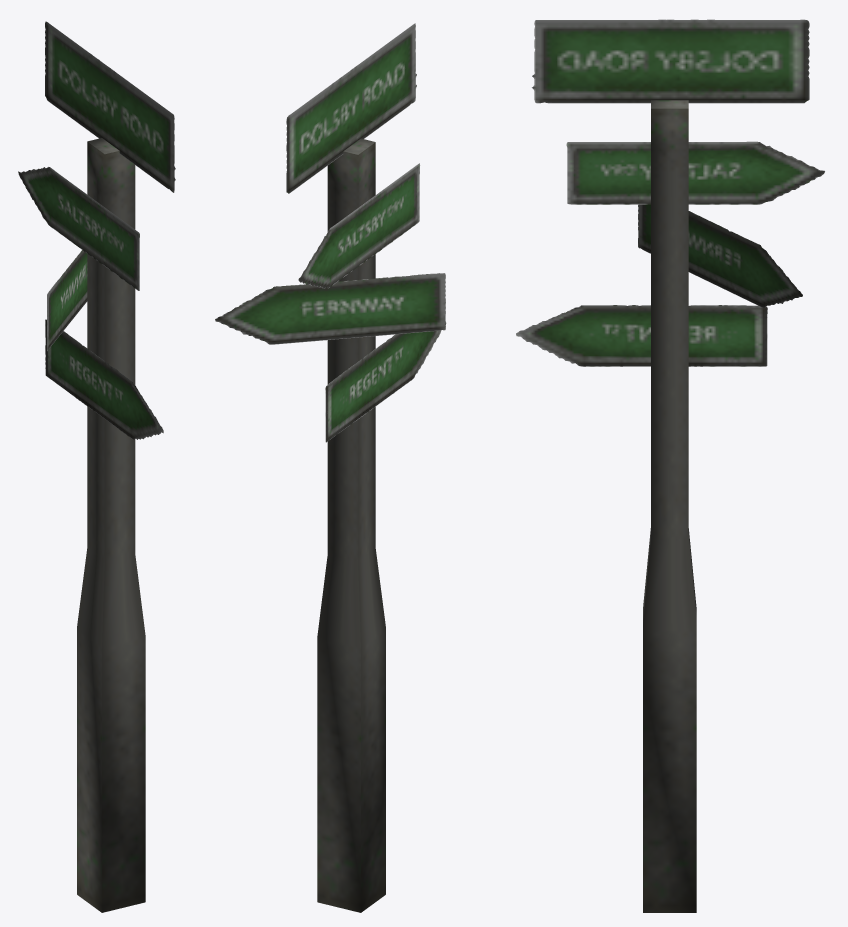
Rendered from signpost0.fbx.
The picture shows the model from 3 angles, left to right: view 1: azimuth 30°, elevation 25°; view 2: azimuth 150°, elevation 25°; view 3: azimuth 270°, elevation 25°; orthographic projection. The views are drawn at different scales.
Parts seen in each view (by area): view 1: signpost0; view 2: signpost0; view 3: signpost0.
Boxes of the visible parts, x1,y1,x2,y2 form: signpost0: [18, 21, 175, 912]; signpost0: [215, 23, 446, 912]; signpost0: [516, 19, 824, 912].
Bounding box in the file's own units: 94.58 × 152 × 439.
Materials: 1 (1 with a texture image).
